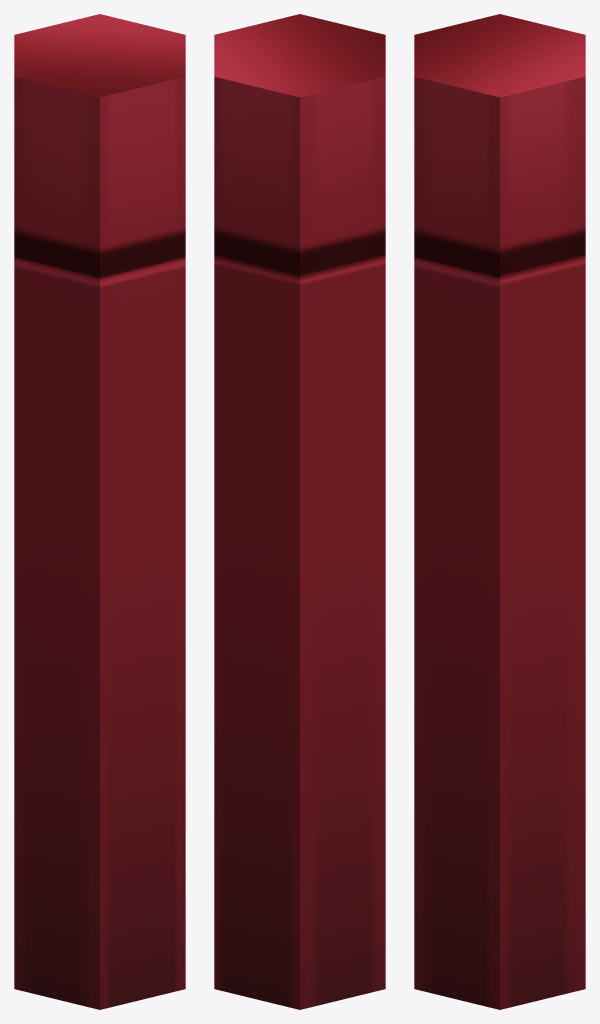
The model's file is HexUnit.obj.
3 renders of one model, left to right at view 1: azimuth 30°, elevation 25°; view 2: azimuth 150°, elevation 25°; view 3: azimuth 270°, elevation 25°, orthographic.
Visible parts, largest first — view 1: HexUnit_Cylinder.001; view 2: HexUnit_Cylinder.001; view 3: HexUnit_Cylinder.001.
Part boxes in pixels (left/top/right/bottom): HexUnit_Cylinder.001: left=14, top=14, right=185, bottom=1009; HexUnit_Cylinder.001: left=214, top=14, right=385, bottom=1009; HexUnit_Cylinder.001: left=414, top=14, right=585, bottom=1009.
Bounding box in the file's own units: 0.53 × 2.7 × 0.459.
Materials: 1 (1 with a texture image).
